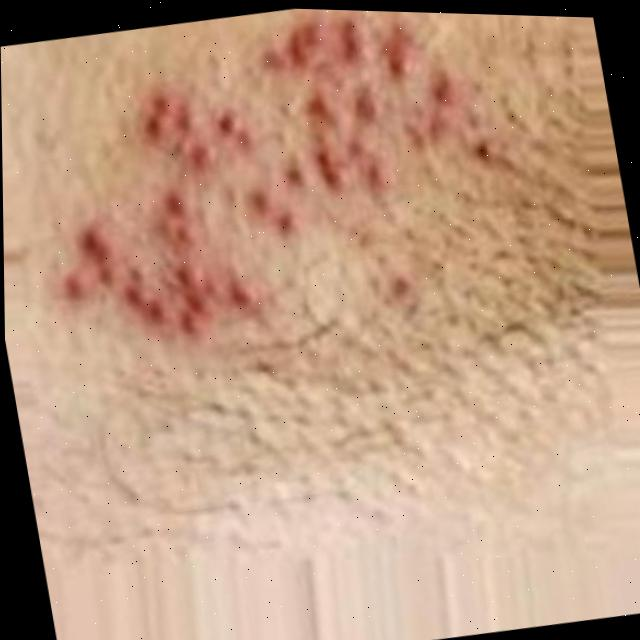Shingles: (33, 1, 489, 362)
